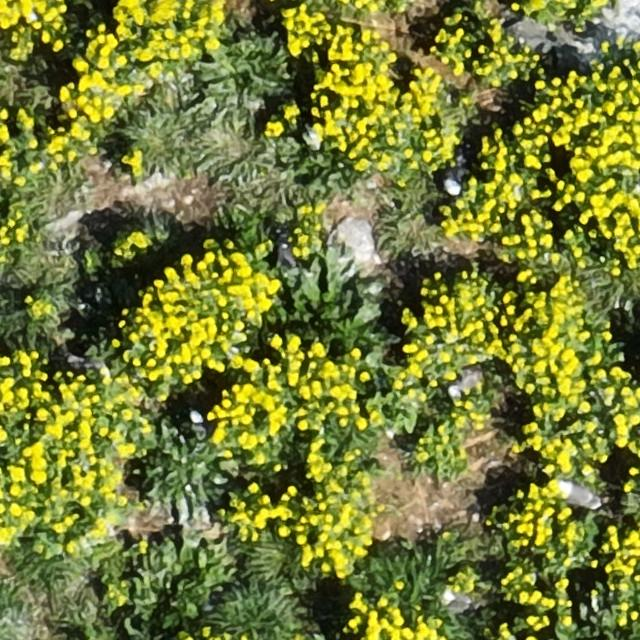umineko: (557, 479, 603, 513), (439, 586, 493, 612), (446, 159, 472, 198)
